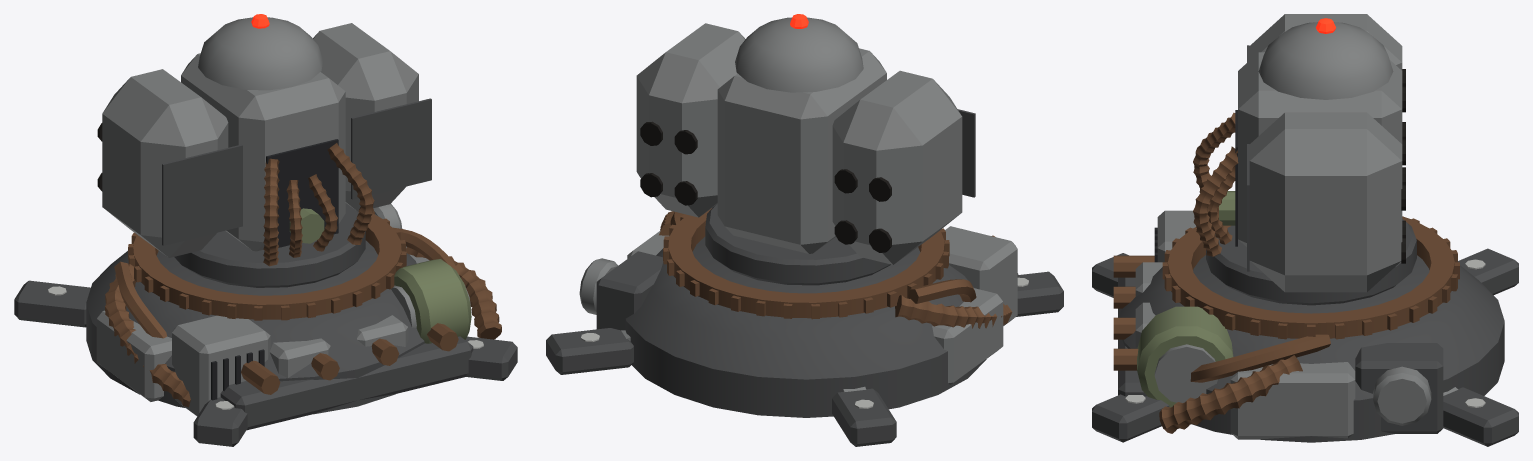
The model's file is rocket-turret.glb.
The picture shows the model from 3 angles, left to right: view 1: azimuth 30°, elevation 25°; view 2: azimuth 150°, elevation 25°; view 3: azimuth 270°, elevation 25°; orthographic projection. The views are drawn at different scales.
Visible parts, largest first — view 1: anim_turret_head, body; view 2: anim_turret_head, body; view 3: body, anim_turret_head.
Part boxes in pixels (box(x1,y1,x2,y2)): anim_turret_head: box(97, 14, 431, 287); body: box(14, 204, 517, 446); anim_turret_head: box(636, 14, 975, 285); body: box(546, 208, 1063, 446); body: box(1092, 210, 1518, 446); anim_turret_head: box(1193, 14, 1416, 305).
Bounding box in the file's own units: 2.9 × 2.58 × 2.91.
